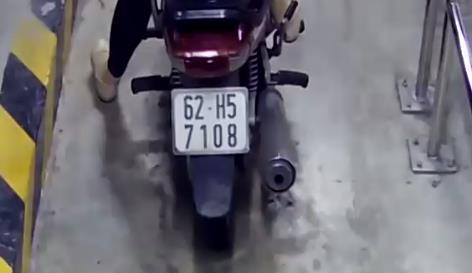lisence: (171, 87, 250, 155)
